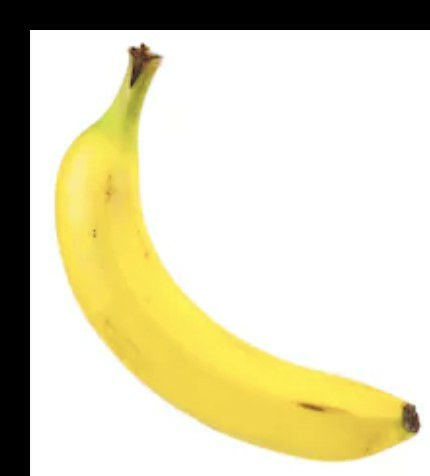fresh_apple: (56, 53, 420, 456)
